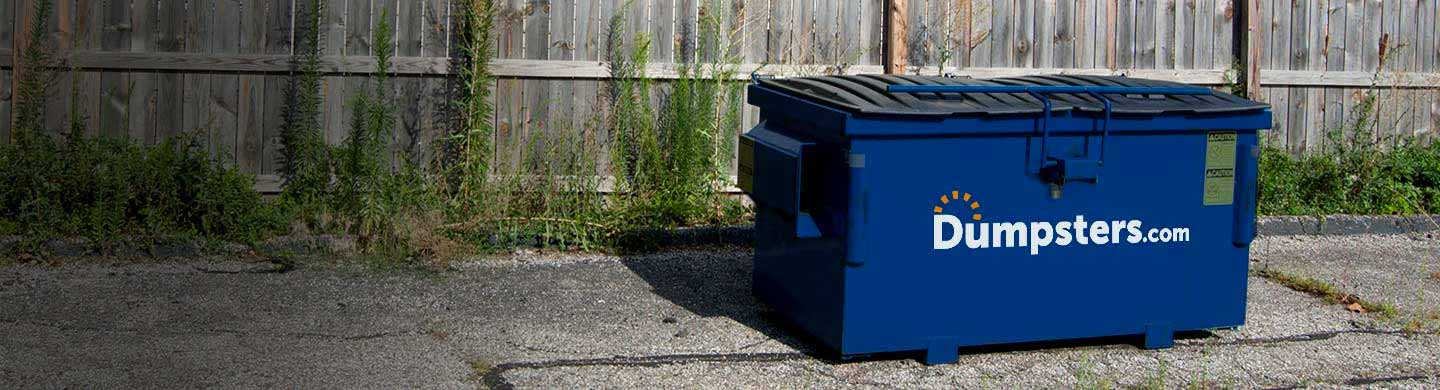Dumpster: (731, 55, 1286, 378)
